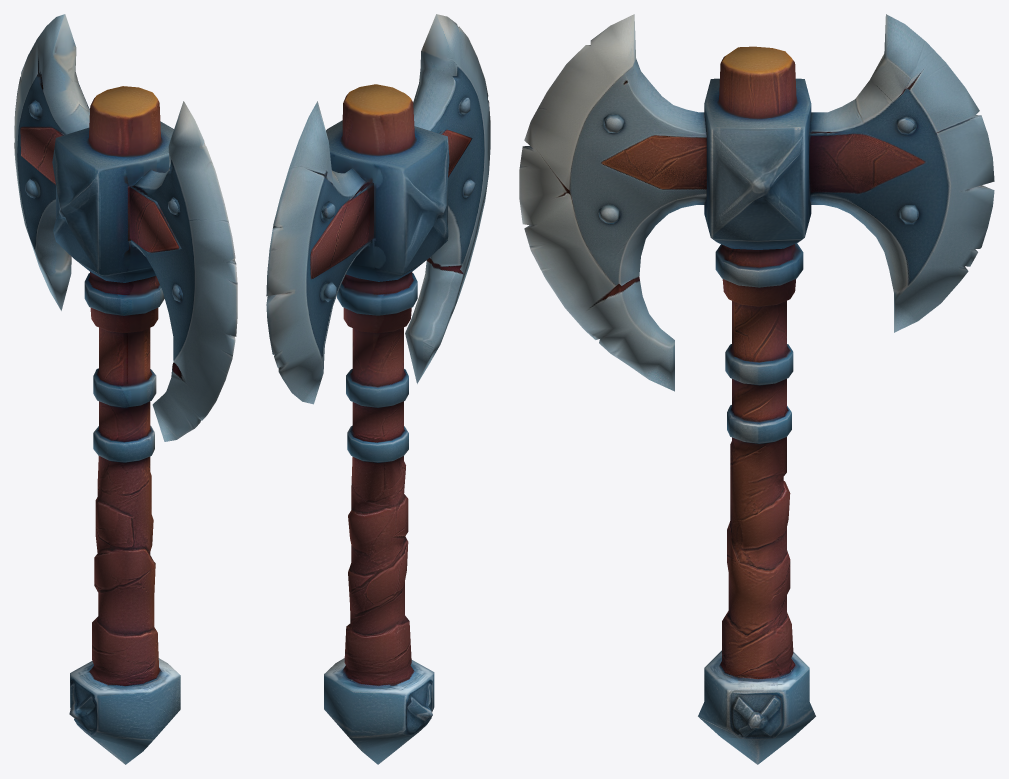
File: hunter_weapon.glb
The picture shows the model from 3 angles, left to right: view 1: azimuth 30°, elevation 25°; view 2: azimuth 150°, elevation 25°; view 3: azimuth 270°, elevation 25°; orthographic projection. The views are drawn at different scales.
Visible parts, largest first — view 1: tripo_node_d7951daa-4116-42e6-8e24-3f239f3dc204; view 2: tripo_node_d7951daa-4116-42e6-8e24-3f239f3dc204; view 3: tripo_node_d7951daa-4116-42e6-8e24-3f239f3dc204.
Part boxes in pixels (x1,y1,x2,y2): tripo_node_d7951daa-4116-42e6-8e24-3f239f3dc204: (14, 14, 237, 764); tripo_node_d7951daa-4116-42e6-8e24-3f239f3dc204: (266, 14, 490, 764); tripo_node_d7951daa-4116-42e6-8e24-3f239f3dc204: (519, 14, 994, 764).
Size of the model in its own units: 0.1934 by 0.998 by 0.5723.
1 material, 1 textured.
